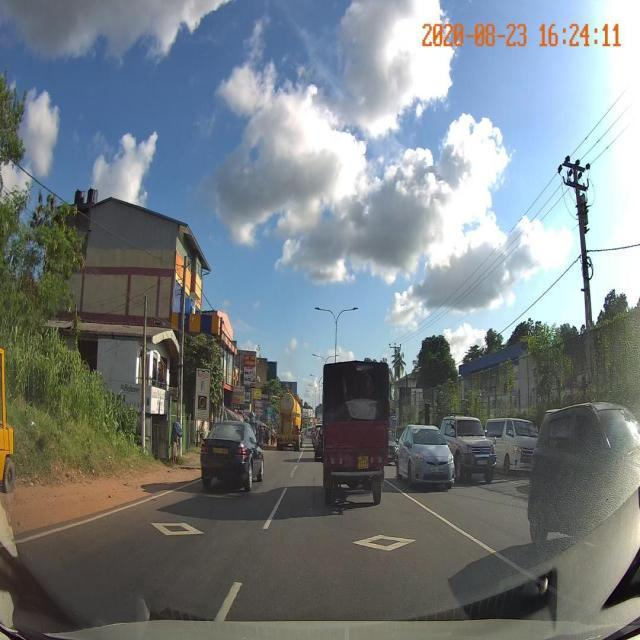Liniya 1: (387, 478, 600, 621), (14, 479, 200, 546), (212, 579, 248, 622), (258, 486, 290, 531), (288, 465, 301, 480), (297, 451, 304, 460)
Romb: (356, 533, 418, 551), (151, 519, 201, 537)
